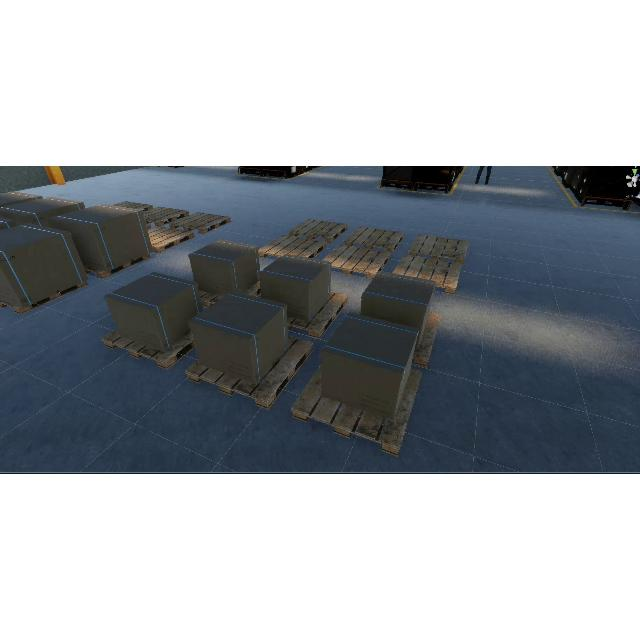wooden_pallet: (290, 362, 423, 458), (185, 334, 314, 410), (101, 328, 196, 369), (1, 279, 89, 315), (393, 254, 462, 293), (322, 244, 391, 278), (408, 232, 468, 265), (83, 251, 151, 279), (258, 234, 327, 260), (344, 225, 405, 253), (288, 218, 348, 243), (171, 211, 231, 235), (147, 225, 195, 253), (142, 206, 190, 226), (112, 201, 154, 212)
